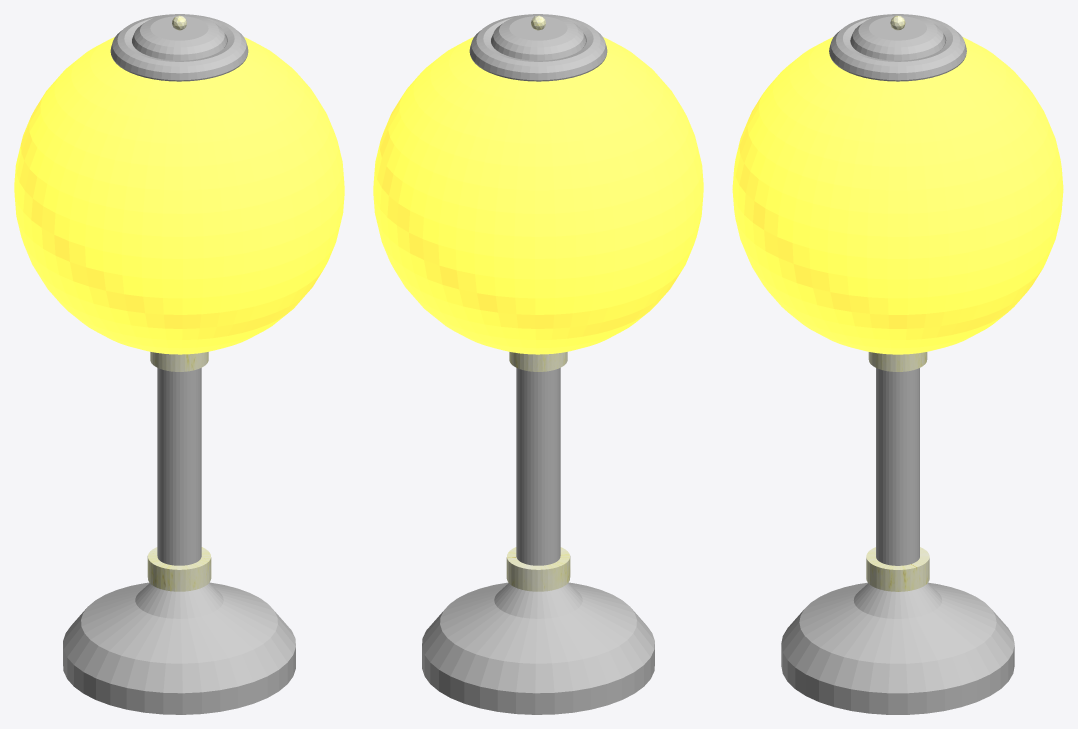
Rendered from Orrery Sun.gltf.
The picture shows the model from 3 angles, left to right: view 1: azimuth 30°, elevation 25°; view 2: azimuth 150°, elevation 25°; view 3: azimuth 270°, elevation 25°; orthographic projection.
Parts seen in each view (by area): view 1: Orrery_Sun; view 2: Orrery_Sun; view 3: Orrery_Sun.
Boxes of the visible parts, x1,y1,x2,y2 form: Orrery_Sun: (14, 14, 344, 714); Orrery_Sun: (373, 14, 703, 714); Orrery_Sun: (732, 14, 1063, 714).
Size of the model in its own units: 5.99 by 12.99 by 6.
